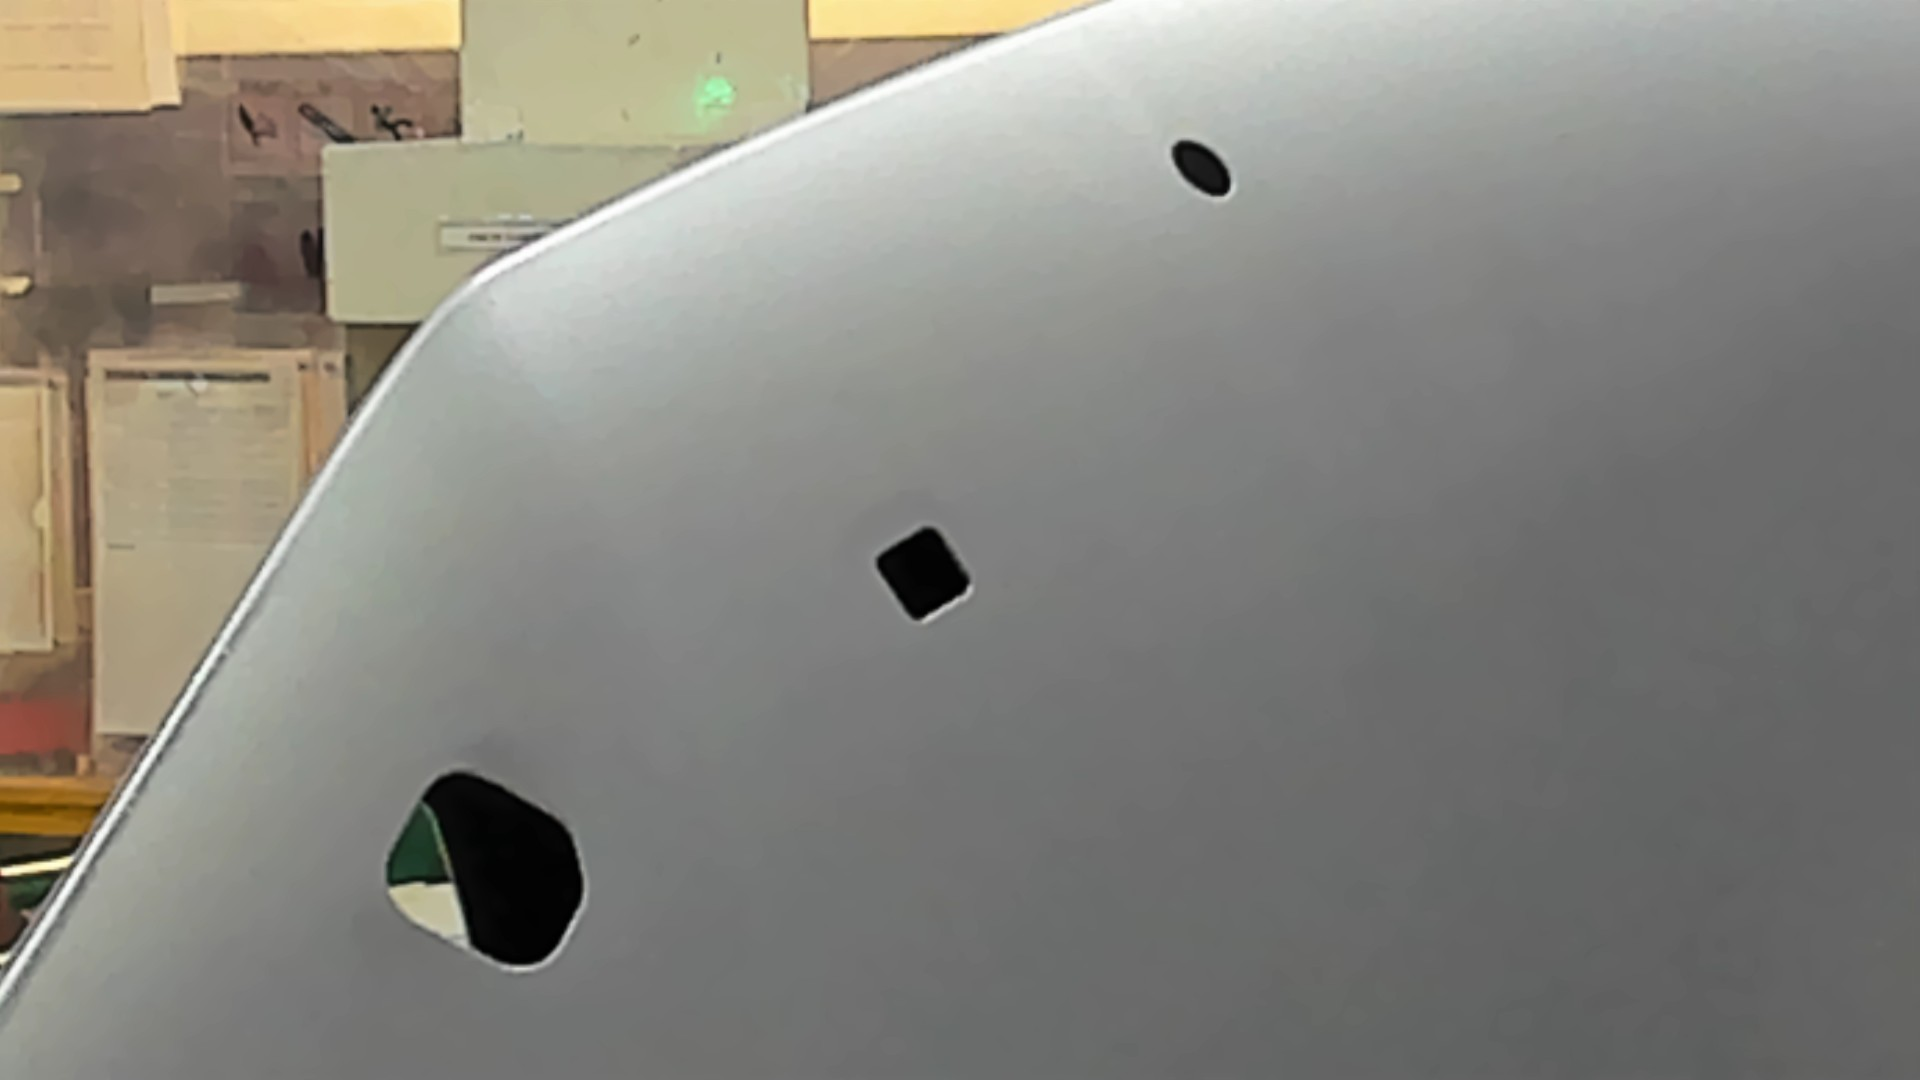chico: (1164, 131, 1245, 214)
grande: (364, 760, 609, 981)
mediano: (862, 516, 993, 626)
